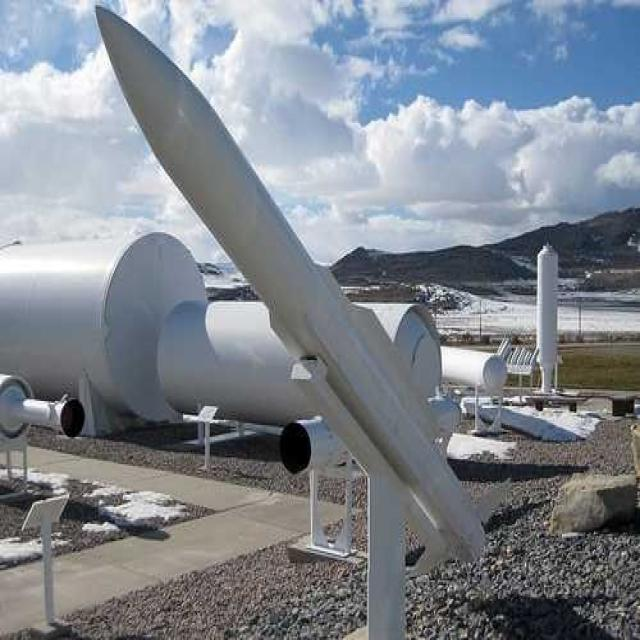missile: (96, 4, 490, 557)
